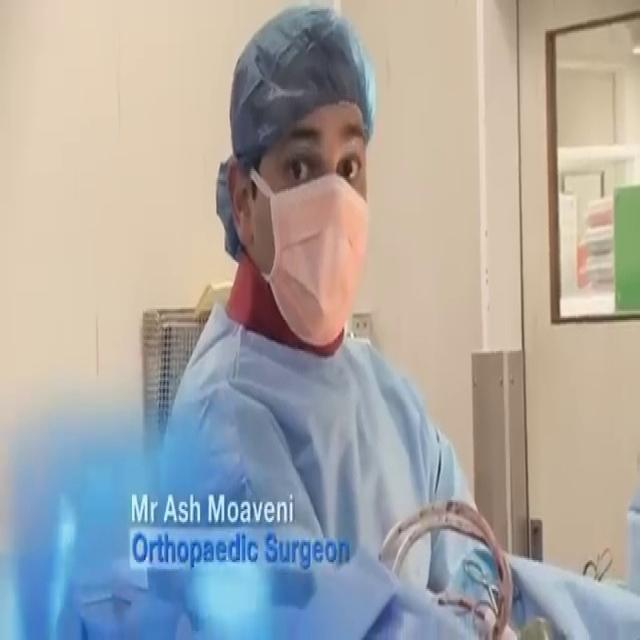doctor: (146, 2, 516, 638)
